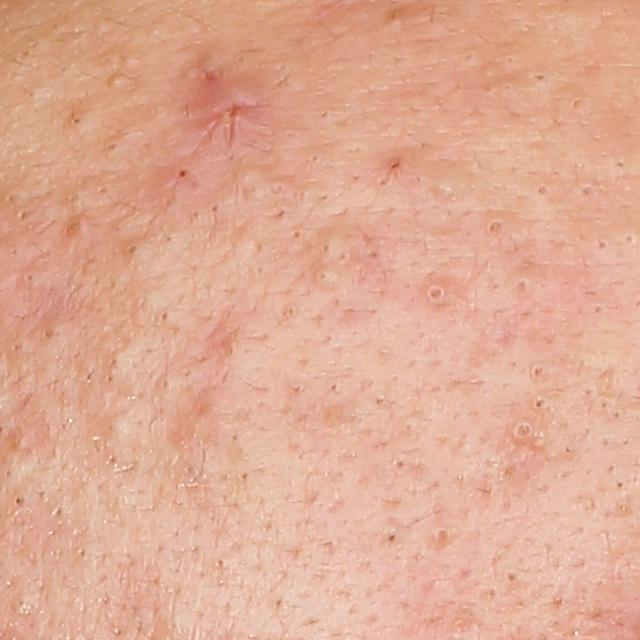comedo: (419, 278, 452, 310), (100, 410, 133, 438), (63, 110, 94, 136), (313, 265, 337, 290), (123, 239, 147, 263), (484, 217, 509, 239), (509, 421, 535, 440), (575, 181, 598, 202), (12, 595, 33, 618), (20, 270, 43, 290), (38, 323, 62, 342), (534, 181, 555, 200), (107, 72, 127, 90), (592, 236, 611, 254), (530, 363, 548, 381), (620, 230, 637, 247), (529, 70, 549, 84), (9, 493, 27, 508), (392, 455, 409, 470), (532, 394, 548, 409), (291, 224, 305, 239), (386, 528, 399, 544), (506, 568, 520, 582)
papule: (205, 85, 253, 139)
